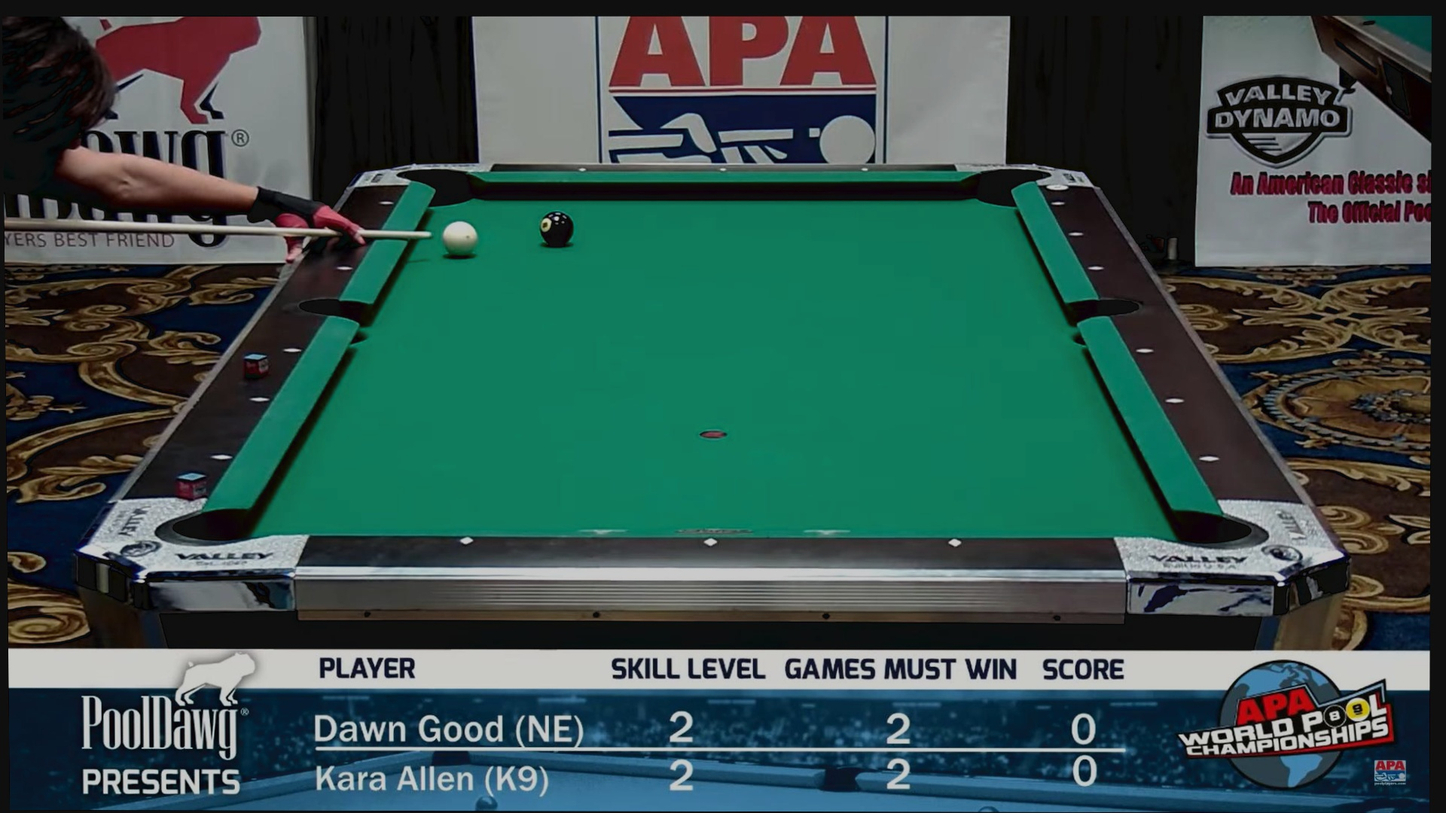Black: (539, 211, 574, 246)
Cue: (442, 220, 477, 257)
Solid: (250, 393, 267, 404), (336, 264, 353, 275), (1165, 397, 1182, 408), (213, 453, 229, 464), (378, 197, 394, 208), (574, 164, 590, 175), (857, 164, 873, 175), (1050, 198, 1066, 209), (1134, 345, 1150, 356), (1200, 454, 1216, 465), (702, 535, 718, 546), (714, 165, 731, 175), (1085, 262, 1102, 272), (946, 536, 963, 546), (458, 536, 475, 546), (283, 346, 299, 356), (1067, 228, 1083, 238)
